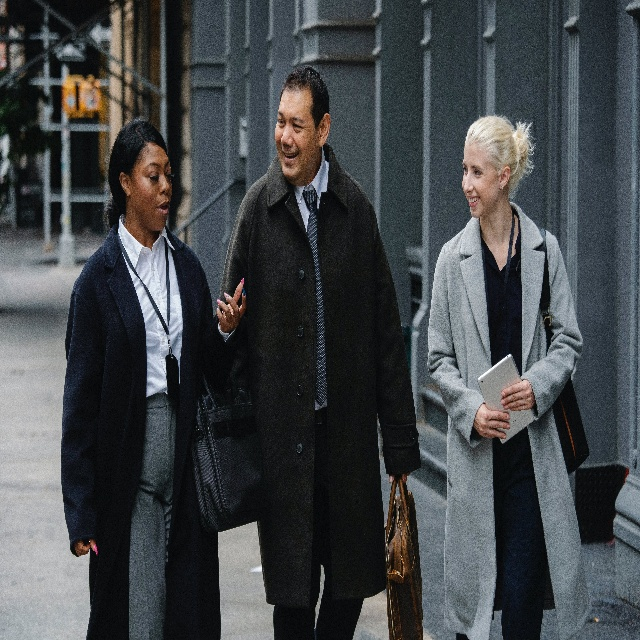Sin_guantes: (215, 276, 248, 336), (472, 401, 511, 441), (500, 377, 536, 412), (72, 536, 99, 556), (387, 469, 411, 487)
